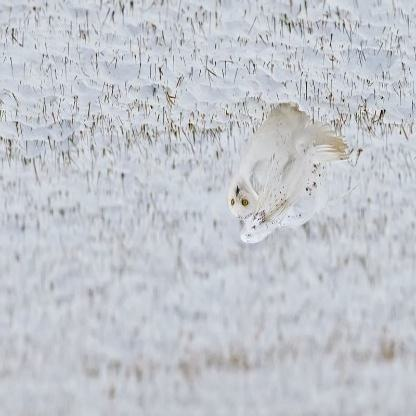Owl: (227, 100, 346, 242)
